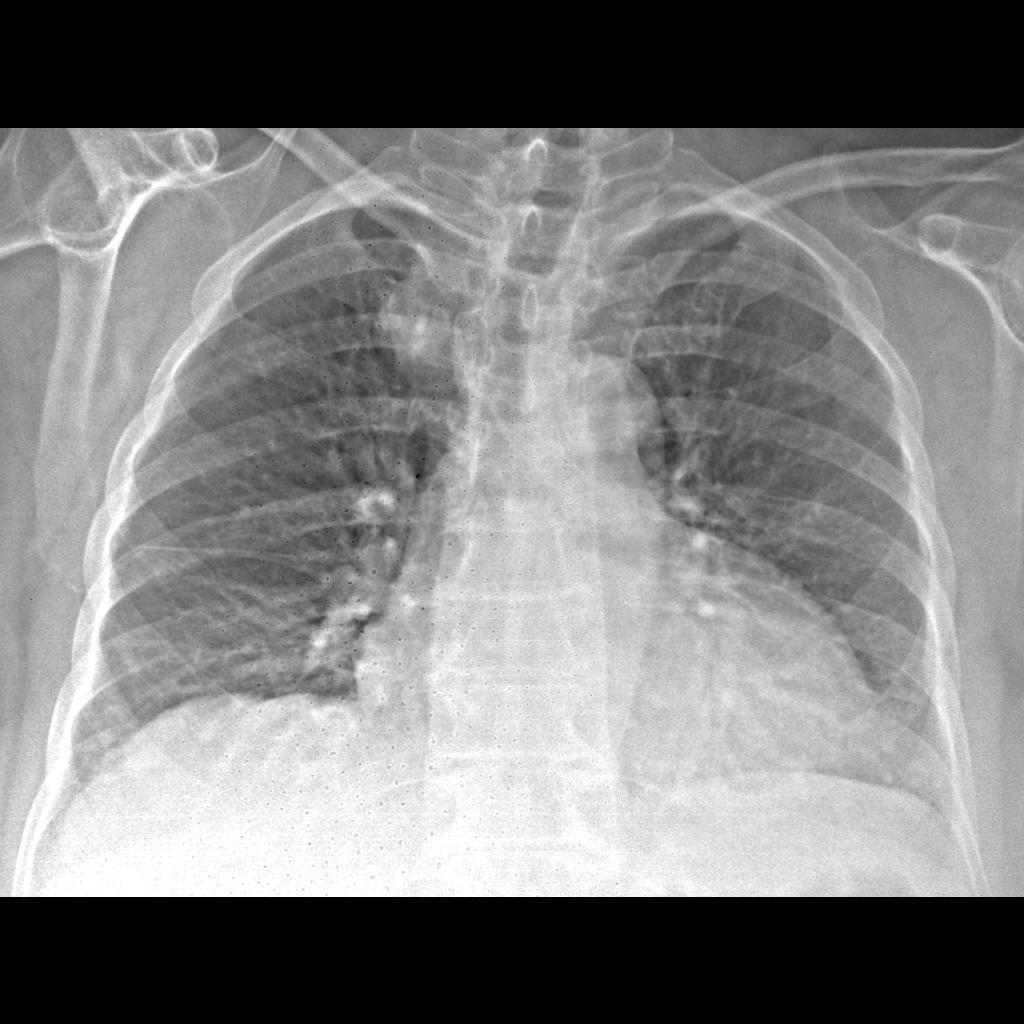Nodule: (355, 291, 460, 374)
